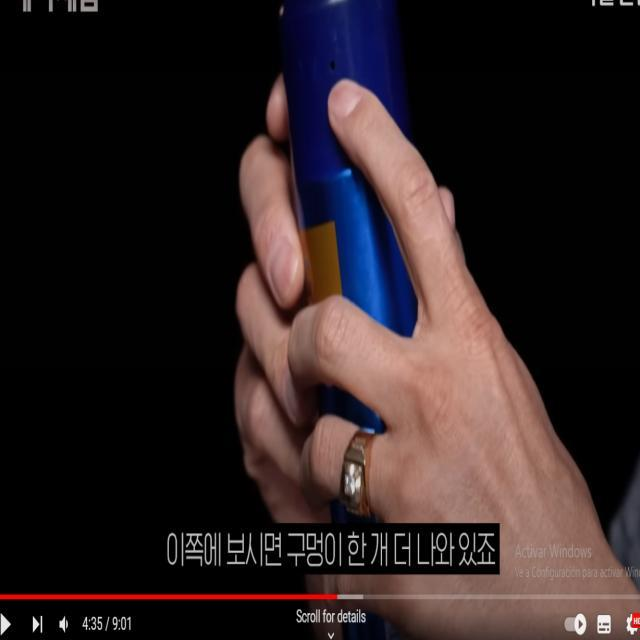hidden camera: (326, 56, 337, 74)
